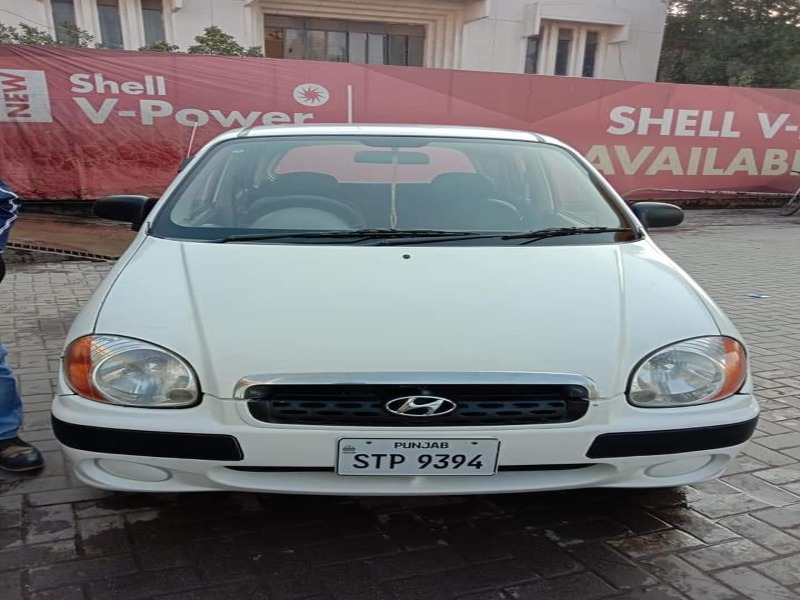License Plate: (331, 432, 502, 480)
